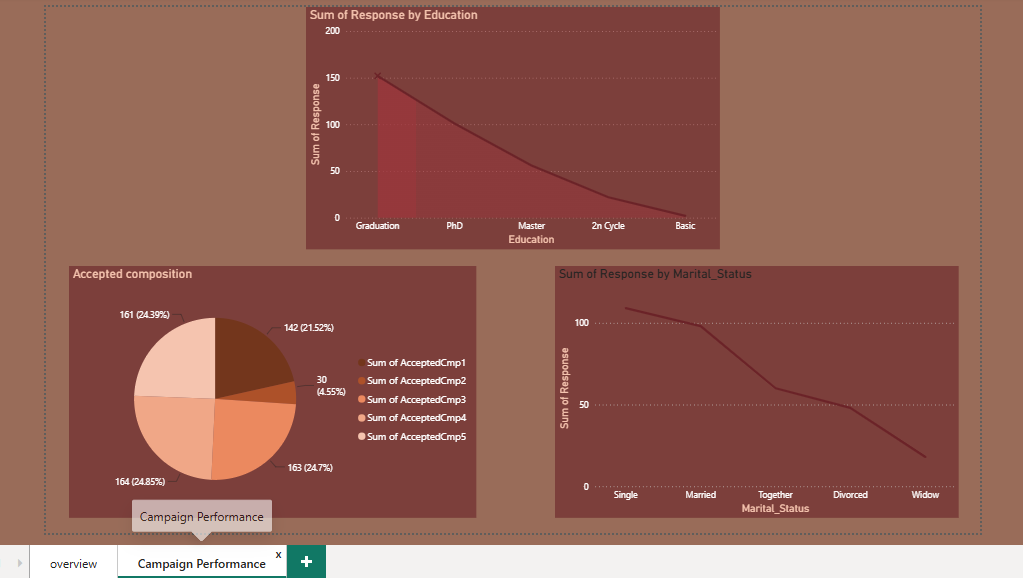

Layout of this report page (visuals, bound fields, positions):
{"tool":"powerbi","page":{"name":"Campaign Performance","canvas":[1280,720],"ordinal":1},"visuals":[{"type":"pieChart","title":"Accepted composition","fields":{"Y":["Sum(ifood_df.AcceptedCmp1)","Sum(ifood_df.AcceptedCmp2)","Sum(ifood_df.AcceptedCmp3)","Sum(ifood_df.AcceptedCmp4)","Sum(ifood_df.AcceptedCmp5)"]},"box":[31.7,355,558.3,345],"z":0},{"type":"stackedAreaChart","fields":{"Category":["ifood_df.Education"],"Y":["Sum(ifood_df.Response)"]},"box":[356.7,0,566.7,331.7],"z":1000},{"type":"lineChart","fields":{"Category":["ifood_df.Marital_Status"],"Y":["Sum(ifood_df.Response)"]},"box":[696.7,355,553.3,345],"z":2000}]}

Visuals, with their boxes on the page's 1280x720 design canvas (x1, y1, x2, y2). These are canvas units, not pixel positions in the 1023x578 screenshot, which may show the page scaled, cropped or inside an application window:
"Accepted composition" pieChart: 32:355:590:700
stackedAreaChart - ifood_df.Education x Sum(ifood_df.Response): 357:0:923:332
lineChart - ifood_df.Marital_Status x Sum(ifood_df.Response): 697:355:1250:700
